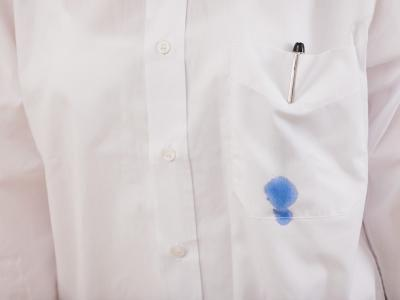gun: (259, 176, 297, 225)
